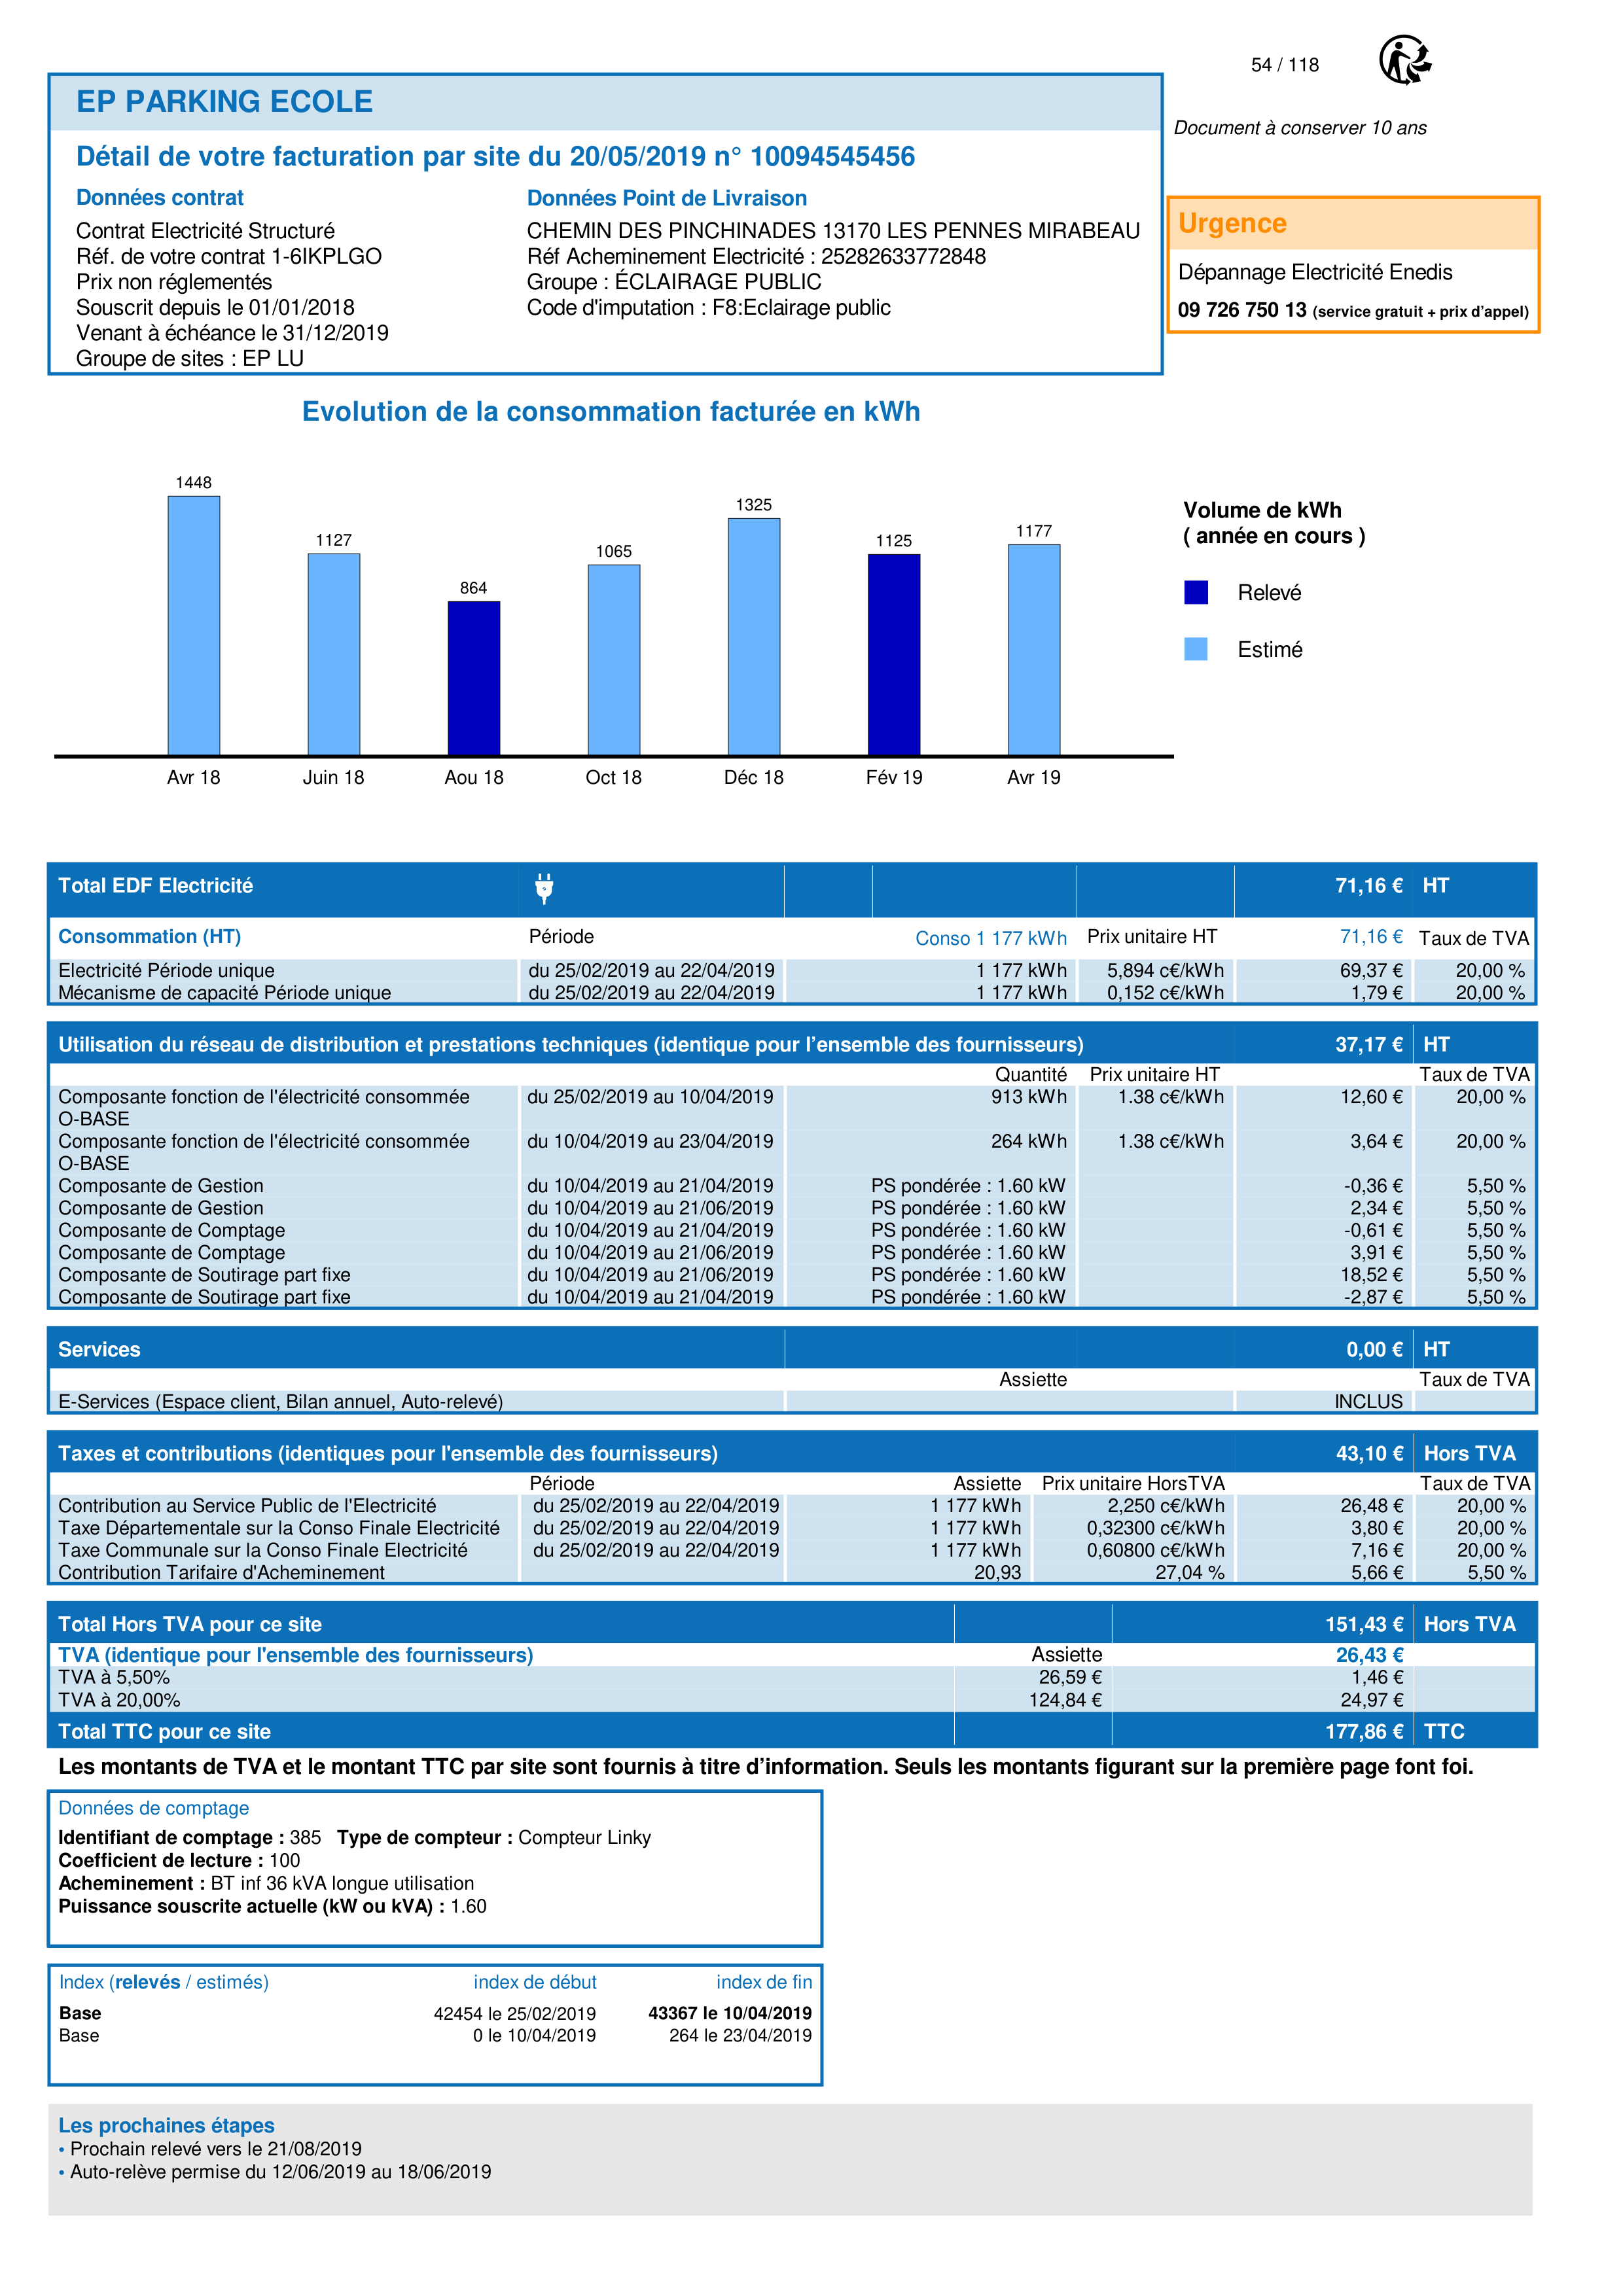area: (47, 1964, 822, 2087)
type_indicator: (49, 1966, 281, 1998)
